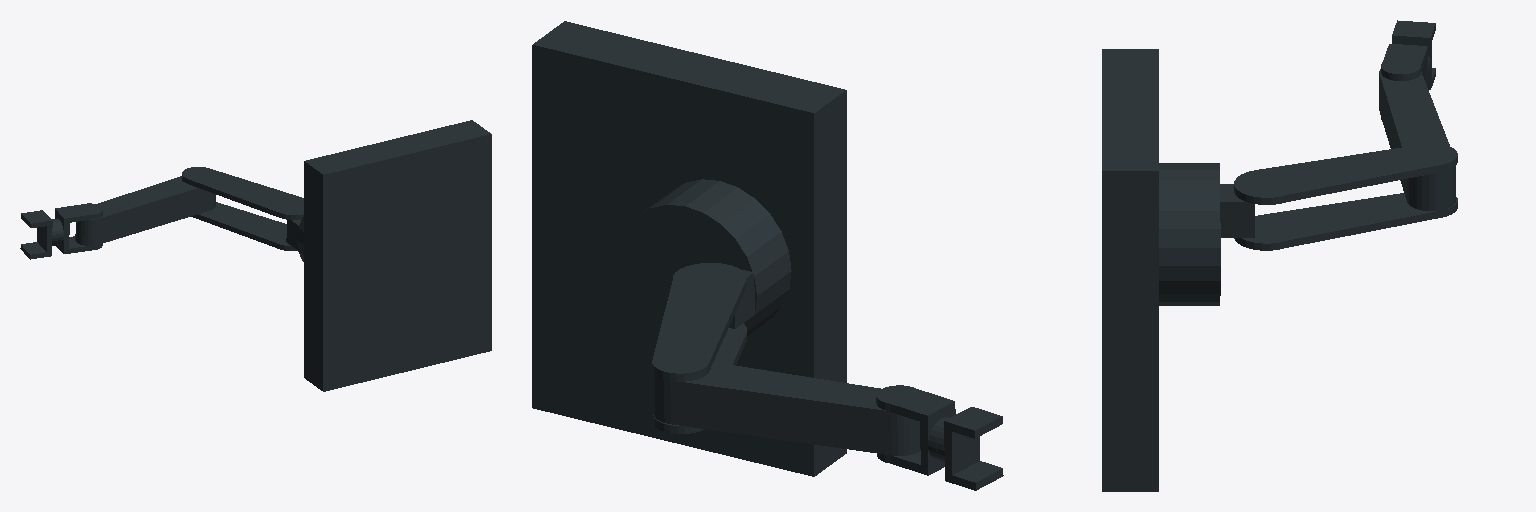
The robot description file, URDF, robot "RUKA1":
<robot name="RUKA1" version="1.0">
  <joint name="grip_link_joint" type="revolute">
    <limit lower="-1.00000" upper="1.00000" effort="0.00000" velocity="0.00000"/>
    <origin rpy="0.00000 0.00000 0.00000" xyz="-1.17227 0.18011 0.01967"/>
    <parent link="link3_link"/>
    <child link="grip_link"/>
    <axis xyz="1.00000 0.00000 0.00000"/>
  </joint>
  <joint name="link1_link_joint" type="revolute">
    <limit lower="-2.00000" upper="2.00000" effort="0.00000" velocity="0.00000"/>
    <origin rpy="0.00000 0.00000 0.00000" xyz="-0.92668 1.98462 0.05671"/>
    <parent link="platform_link"/>
    <child link="link1_link"/>
    <axis xyz="0.00000 0.00000 1.00000"/>
  </joint>
  <joint name="link2_link_joint" type="revolute">
    <limit lower="-2.00000" upper="2.00000" effort="0.00000" velocity="0.00000"/>
    <origin rpy="0.00000 0.00000 0.00000" xyz="-1.29037 3.21921 0.02158"/>
    <parent link="link1_link"/>
    <child link="link2_link"/>
    <axis xyz="0.00000 0.00000 1.00000"/>
  </joint>
  <joint name="link3_link_joint" type="revolute">
    <limit lower="-2.00000" upper="2.00000" effort="0.00000" velocity="0.00000"/>
    <origin rpy="0.00000 0.00000 0.00000" xyz="-3.92261 -0.57739 0.05857"/>
    <parent link="link2_link"/>
    <child link="link3_link"/>
    <axis xyz="0.00000 0.00000 1.00000"/>
  </joint>
  <joint name="platform_link_joint" type="revolute">
    <limit lower="-1.00000" upper="1.00000" effort="0.00000" velocity="0.00000"/>
    <origin rpy="0.00000 0.00000 0.00000" xyz="-0.93091 1.08481 0.32909"/>
    <parent link="base_link"/>
    <child link="platform_link"/>
    <axis xyz="0.00000 1.00000 0.00000"/>
  </joint>
  <link name="base_link">
    <collision name="base_collision">
      <origin rpy="0.00000 0.00000 0.00000" xyz="0.00000 0.54250 -0.00000"/>
      <geometry>
        <box size="5.48699 1.08500 6.76599"/>
      </geometry>
    </collision>
    <visual name="base">
      <origin rpy="0.00000 0.00000 0.00000" xyz="0.00000 0.00000 0.00000"/>
      <material name="Material"/>
      <geometry>
        <mesh filename="../meshes/stl/ruka.007.stl" scale="1.00000 1.00000 1.00000"/>
      </geometry>
    </visual>
  </link>
  <link name="grip_link">
    <collision name="grip_collision">
      <origin rpy="0.00000 0.00000 -0.00000" xyz="-0.33317 0.05097 0.00696"/>
      <geometry>
        <box size="0.95576 0.86854 1.12427"/>
      </geometry>
    </collision>
    <visual name="grip">
      <origin rpy="0.00000 0.00000 -0.00000" xyz="0.00000 0.00000 0.00000"/>
      <material name="Material"/>
      <geometry>
        <mesh filename="../meshes/stl/ruka.012.stl" scale="1.00000 1.00000 1.00000"/>
      </geometry>
    </visual>
  </link>
  <link name="link1_link">
    <visual name="link1">
      <origin rpy="0.00000 0.00000 0.00000" xyz="0.00000 0.00000 0.00000"/>
      <material name="Material"/>
      <geometry>
        <mesh filename="../meshes/stl/ruka.009.stl" scale="1.00000 1.00000 1.00000"/>
      </geometry>
    </visual>
  </link>
  <link name="link2_link">
    <collision name="link2_collision">
      <origin rpy="-0.00000 1.57080 0.00000" xyz="-1.92910 -0.26282 0.03145"/>
      <geometry>
        <cylinder radius="0.73101" length="4.80740"/>
      </geometry>
    </collision>
    <visual name="link2">
      <origin rpy="0.00000 0.00000 0.00000" xyz="0.00000 0.00000 0.00000"/>
      <material name="Material"/>
      <geometry>
        <mesh filename="../meshes/stl/ruka.010.stl" scale="1.00000 1.00000 1.00000"/>
      </geometry>
    </visual>
  </link>
  <link name="link3_link">
    <visual name="link3">
      <origin rpy="0.00000 0.00000 0.00000" xyz="0.00000 0.00000 0.00000"/>
      <material name="Material"/>
      <geometry>
        <mesh filename="../meshes/stl/ruka.011.stl" scale="1.00000 1.00000 1.00000"/>
      </geometry>
    </visual>
  </link>
  <link name="platform_link">
    <collision name="platform_collision">
      <origin rpy="0.00000 0.00000 0.00000" xyz="-0.00074 0.91479 -0.00000"/>
      <geometry>
        <box size="2.74311 1.83306 2.74163"/>
      </geometry>
    </collision>
    <visual name="platform">
      <origin rpy="0.00000 0.00000 0.00000" xyz="0.00000 0.00000 0.00000"/>
      <material name="Material"/>
      <geometry>
        <mesh filename="../meshes/stl/ruka.008.stl" scale="1.00000 1.00000 1.00000"/>
      </geometry>
    </visual>
  </link>
  <material name="Material">
    <color rgba="0.21176 0.24706 0.26275 1.00000"/>
  </material>
</robot>

--- Render facts (derived) ---
3 views of the same robot in one strip: view 1: azimuth 30°, elevation 25°; view 2: azimuth 150°, elevation 25°; view 3: azimuth 270°, elevation 25° (orthographic).
Model RUKA1 with 6 links and 5 joints (5 revolute), rooted at base_link, posed every joint at zero.
Visible links, largest first — view 1: base_link, link1_link, link2_link, link3_link, grip_link, platform_link; view 2: base_link, platform_link, link2_link, link1_link, grip_link, link3_link; view 3: base_link, link1_link, platform_link, link2_link, link3_link, grip_link.
Boxes of the visible links, box(x1,y1,x2,y2) form: base_link: box(304, 120, 491, 391); link1_link: box(182, 167, 303, 250); link2_link: box(75, 176, 215, 245); link3_link: box(53, 203, 102, 253); grip_link: box(20, 210, 57, 259); platform_link: box(286, 215, 303, 261); base_link: box(532, 21, 846, 476); platform_link: box(616, 179, 791, 339); link2_link: box(653, 362, 920, 455); link1_link: box(652, 263, 746, 433); grip_link: box(936, 407, 1003, 490); link3_link: box(876, 385, 955, 475); base_link: box(1102, 49, 1158, 491); link1_link: box(1234, 143, 1457, 250); platform_link: box(1159, 163, 1254, 305); link2_link: box(1379, 69, 1455, 210); link3_link: box(1381, 44, 1428, 119); grip_link: box(1392, 20, 1435, 89).
Bounding box of the posed robot: 11.8 × 6.79 × 6.77 m (x, y, z).
Meshes: 6 distinct files referenced, 6 mesh visuals loaded (6 binary STL).
